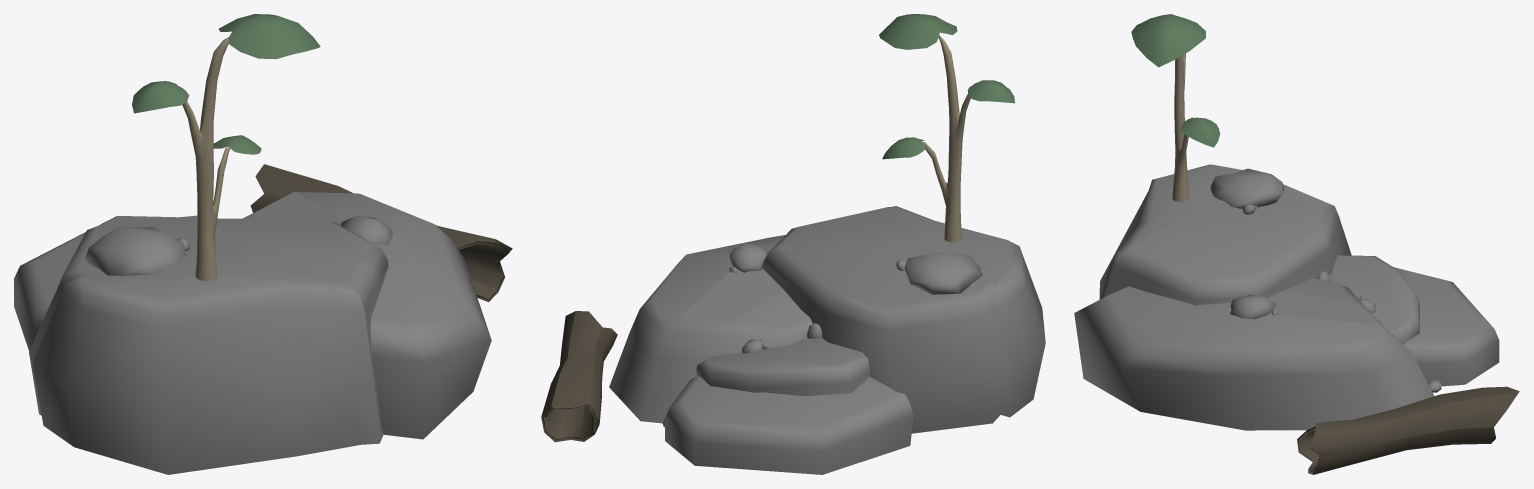
File: assets_pack_1.fbx
3 renders of one model, left to right at view 1: azimuth 30°, elevation 25°; view 2: azimuth 150°, elevation 25°; view 3: azimuth 270°, elevation 25°, orthographic. The views are drawn at different scales.
Visible parts, largest first — view 1: pCube10, polySurface10, pCylinder3; view 2: pCube10, polySurface10, pCylinder3; view 3: pCube10, pCylinder3, polySurface10.
Part boxes in pixels (bbox=[...]): pCube10: bbox=[14, 192, 491, 474]; polySurface10: bbox=[132, 14, 320, 281]; pCylinder3: bbox=[250, 164, 512, 302]; pCube10: bbox=[609, 206, 1045, 474]; polySurface10: bbox=[879, 14, 1014, 242]; pCylinder3: bbox=[541, 311, 617, 442]; pCube10: bbox=[1074, 164, 1499, 430]; pCylinder3: bbox=[1297, 386, 1519, 474]; polySurface10: bbox=[1131, 14, 1220, 201].
Bounding box in the file's own units: 20.54 × 16.39 × 19.68.
